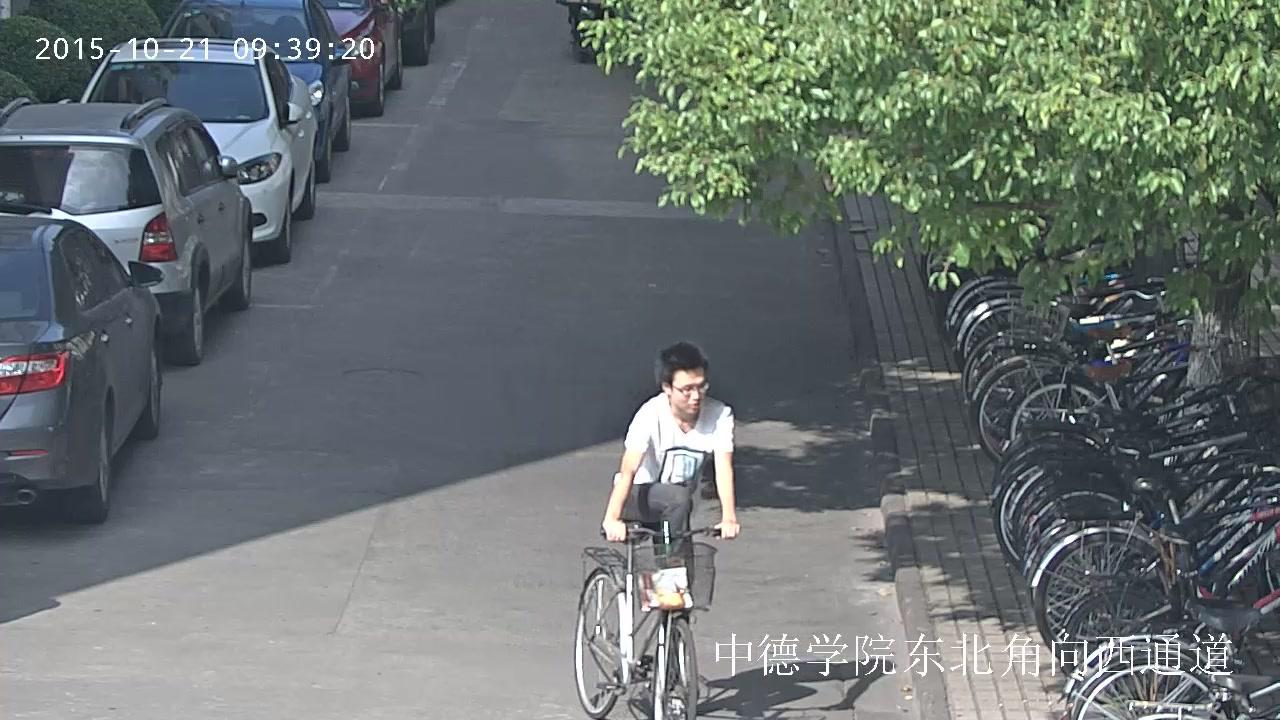face: (672, 367, 705, 414)
